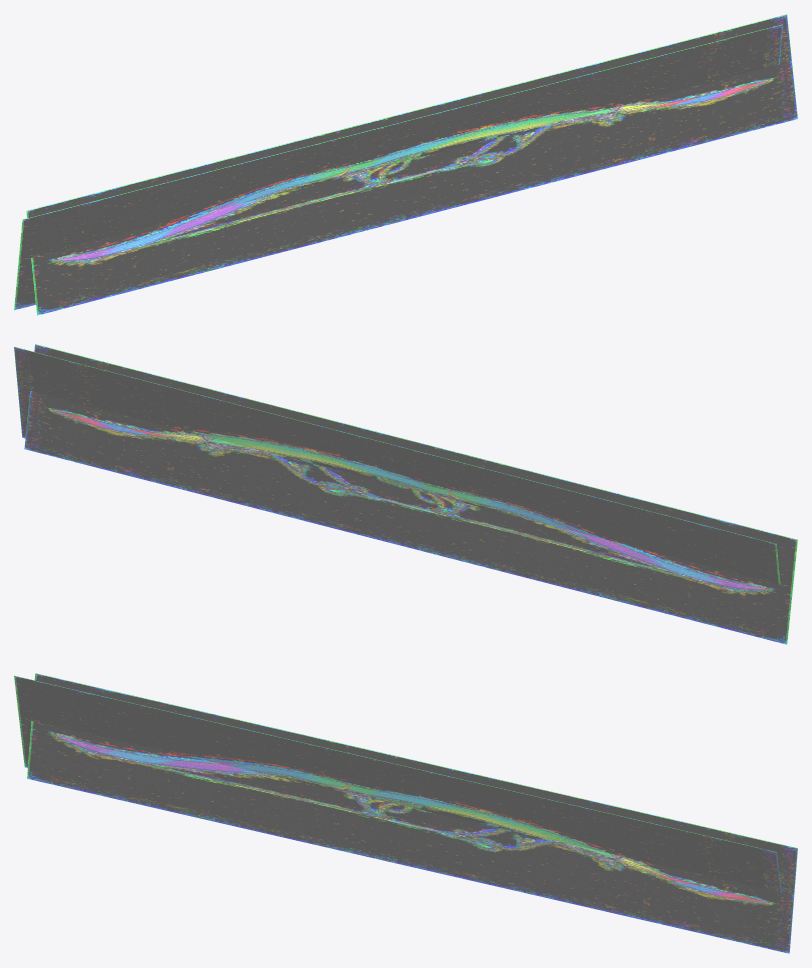
The model's file is bow.glb.
3 renders of one model, top to bottom at view 1: azimuth 30°, elevation 25°; view 2: azimuth 150°, elevation 25°; view 3: azimuth 330°, elevation 25°, orthographic.
Visible parts, largest first — view 1: MoonBow.001, MoonBow.002; view 2: MoonBow.002, MoonBow.001; view 3: MoonBow.001, MoonBow.002.
Boxes of the visible parts, x1,y1,x2,y2 form: MoonBow.001: (26, 14, 797, 315); MoonBow.002: (14, 24, 782, 310); MoonBow.002: (24, 344, 797, 644); MoonBow.001: (14, 347, 780, 584); MoonBow.001: (27, 673, 797, 953); MoonBow.002: (14, 675, 781, 892).
Bounding box in the file's own units: 2.04 × 0.2738 × 0.048.
1 material, 1 textured.
